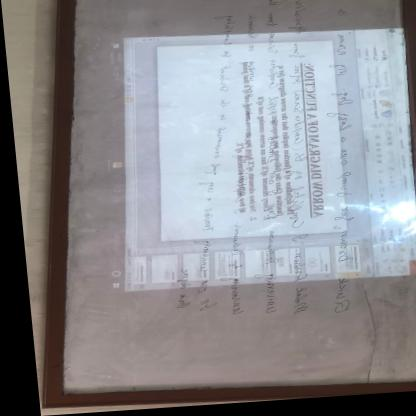Handwritten text: (171, 8, 239, 319), (213, 7, 261, 328), (320, 11, 353, 326), (161, 266, 187, 316)
Whiteboard: (35, 0, 416, 400)
